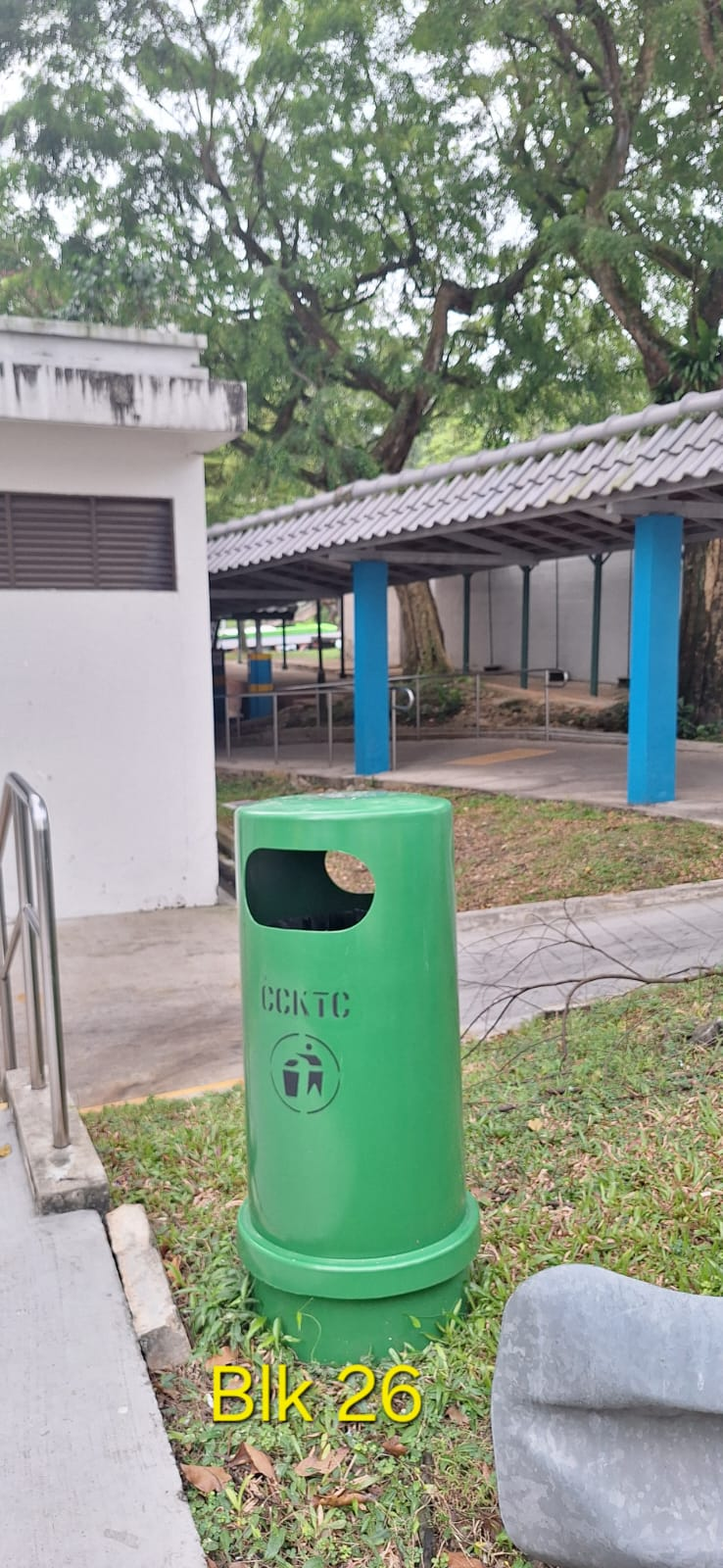bin_empty: (235, 792, 478, 1366)
